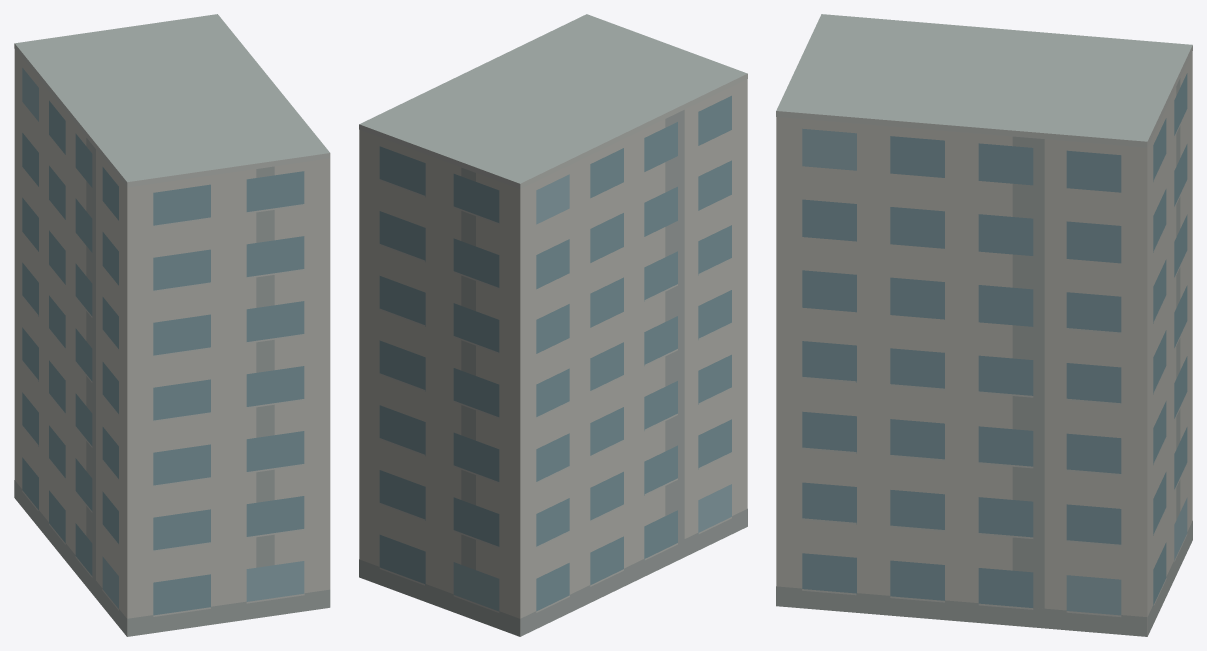
Rendered from survey-upis-32786445.glb.
3 renders of one model, left to right at view 1: azimuth 30°, elevation 25°; view 2: azimuth 150°, elevation 25°; view 3: azimuth 270°, elevation 25°, orthographic. The views are drawn at different scales.
Visible parts, largest first — view 1: survey-upis-32786445.tmp; view 2: survey-upis-32786445.tmp; view 3: survey-upis-32786445.tmp.
Part boxes in pixels (x1,y1,x2,y2): survey-upis-32786445.tmp: (14, 14, 330, 636); survey-upis-32786445.tmp: (359, 14, 747, 636); survey-upis-32786445.tmp: (776, 14, 1192, 636).
Bounding box in the file's own units: 11.18 × 20.2 × 15.42.
